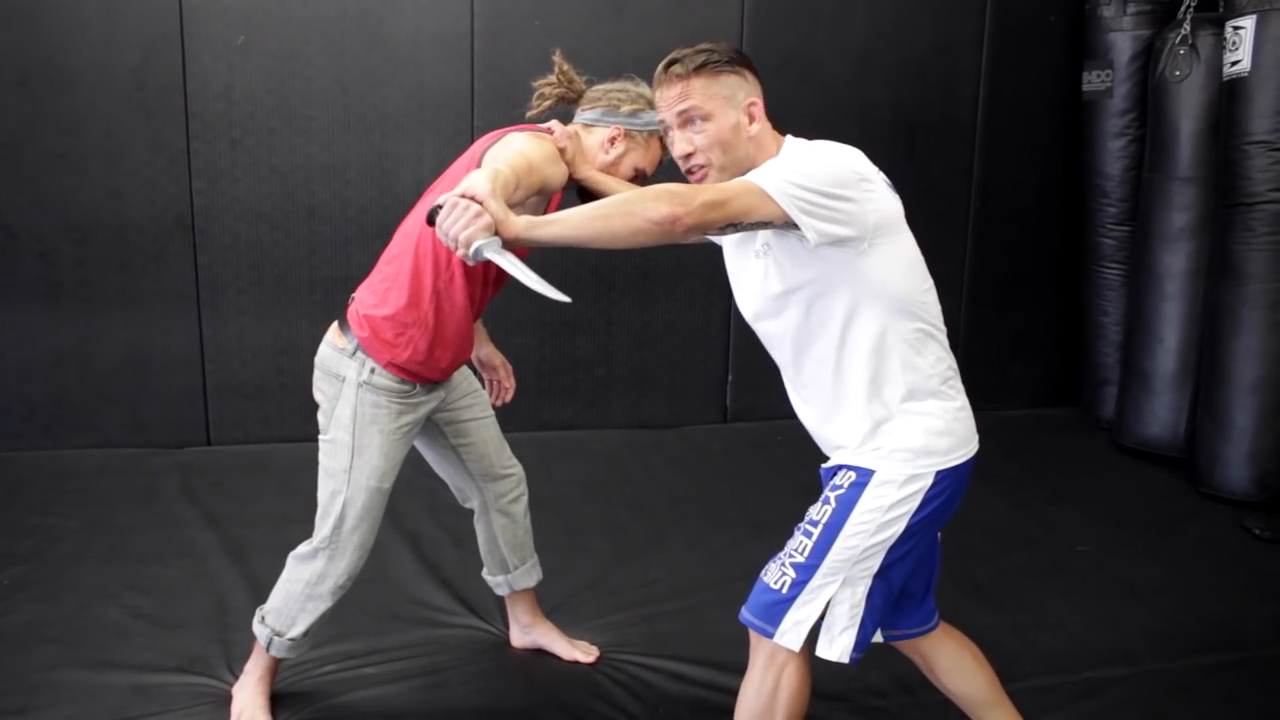knife: (422, 195, 586, 320)
